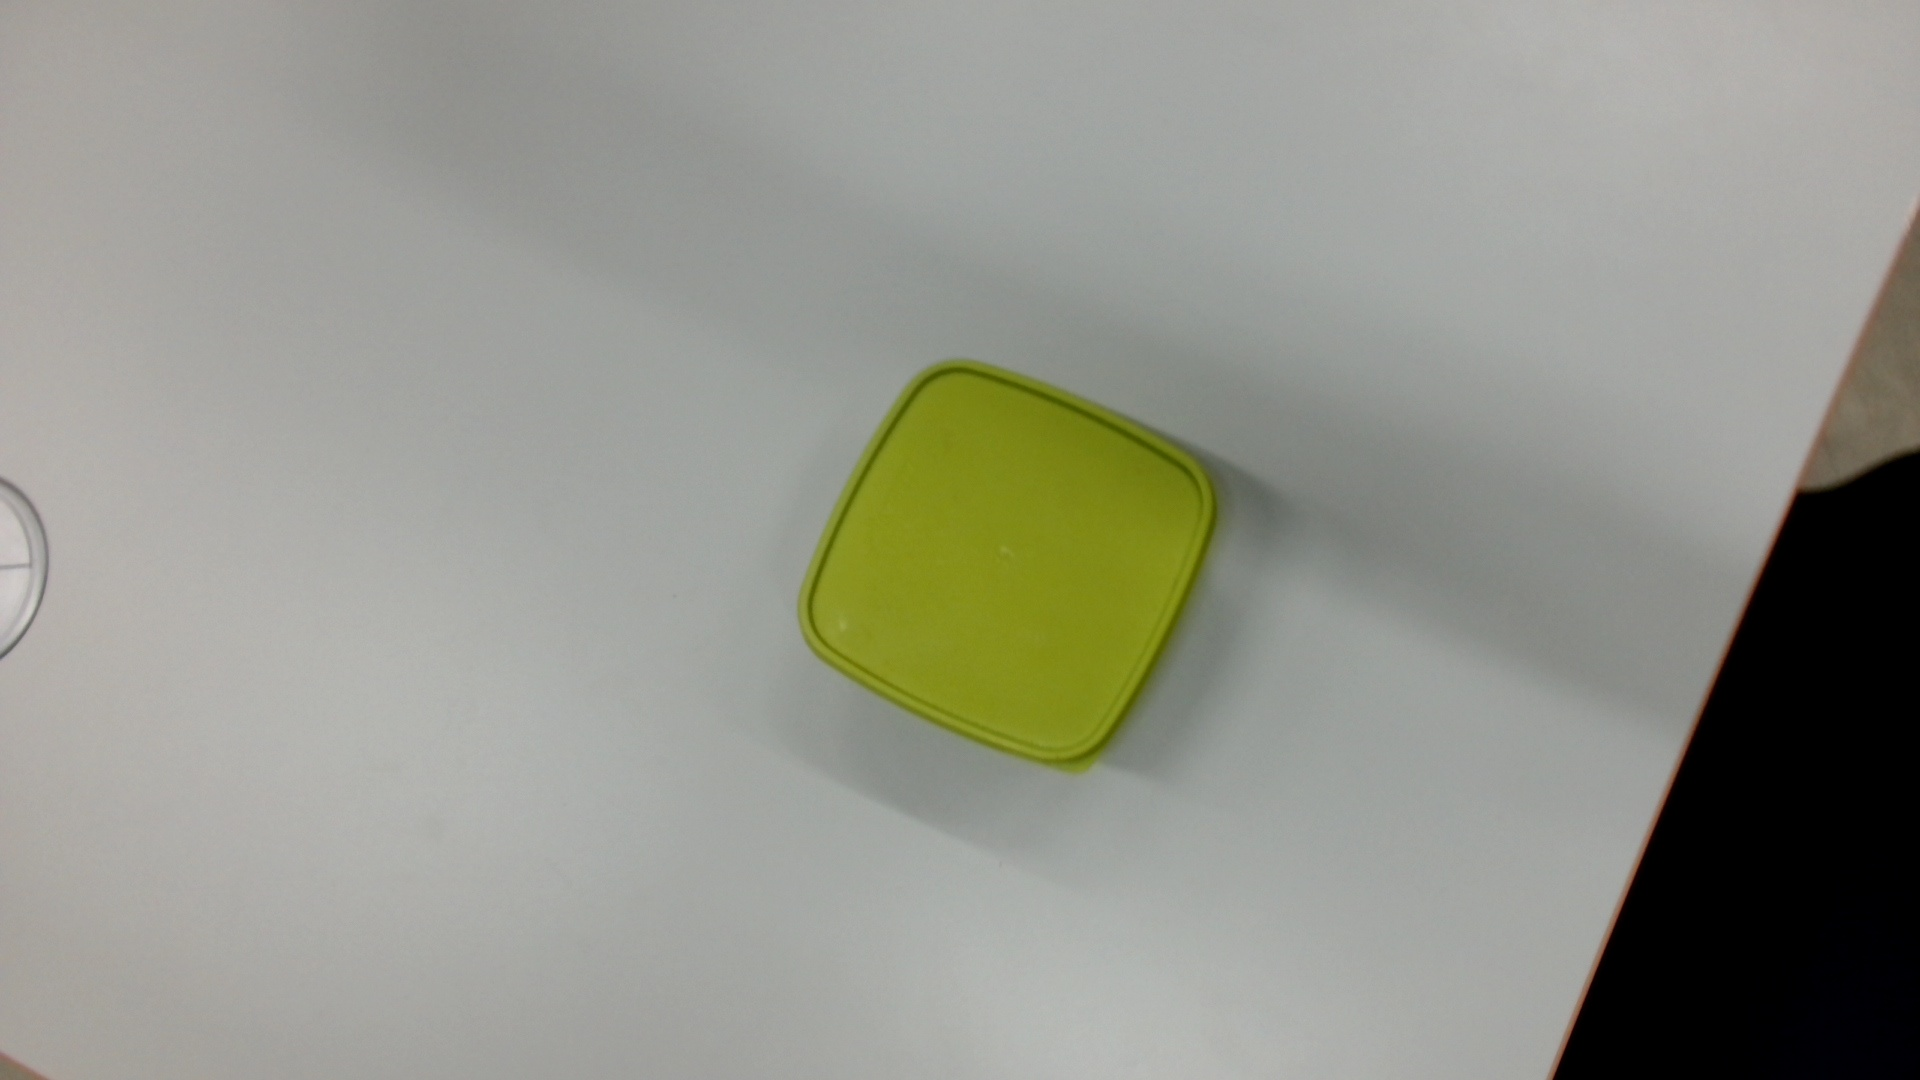Box: (786, 349, 1226, 787)
